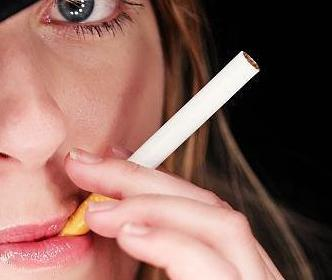smoke: (52, 50, 260, 248)
